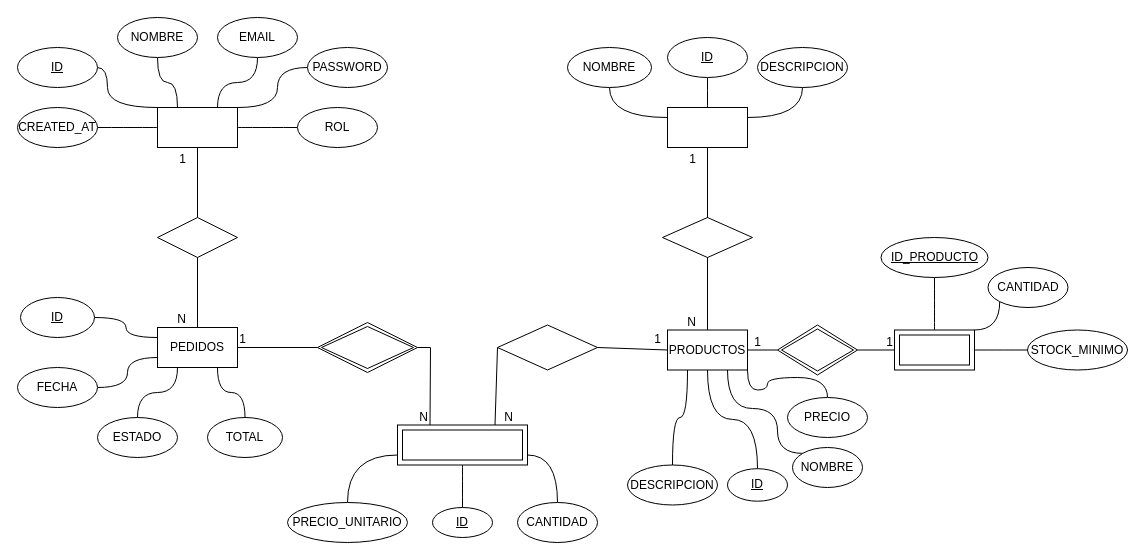
Image size: 1145x560. Some labels were removed from this diagram. Each missing label, with the centre of its shape:
APARECE EN: the point at 547,347
CATEGORIAS: the point at 707,127
CLASIFICA: the point at 707,237
CONTIENE: the point at 367,347
DETALLE_PEDIDOS: the point at 462,444
REALIZA: the point at 197,237
STOCK: the point at 934,349
TIENE: the point at 817,349
USUARIOS: the point at 197,127
